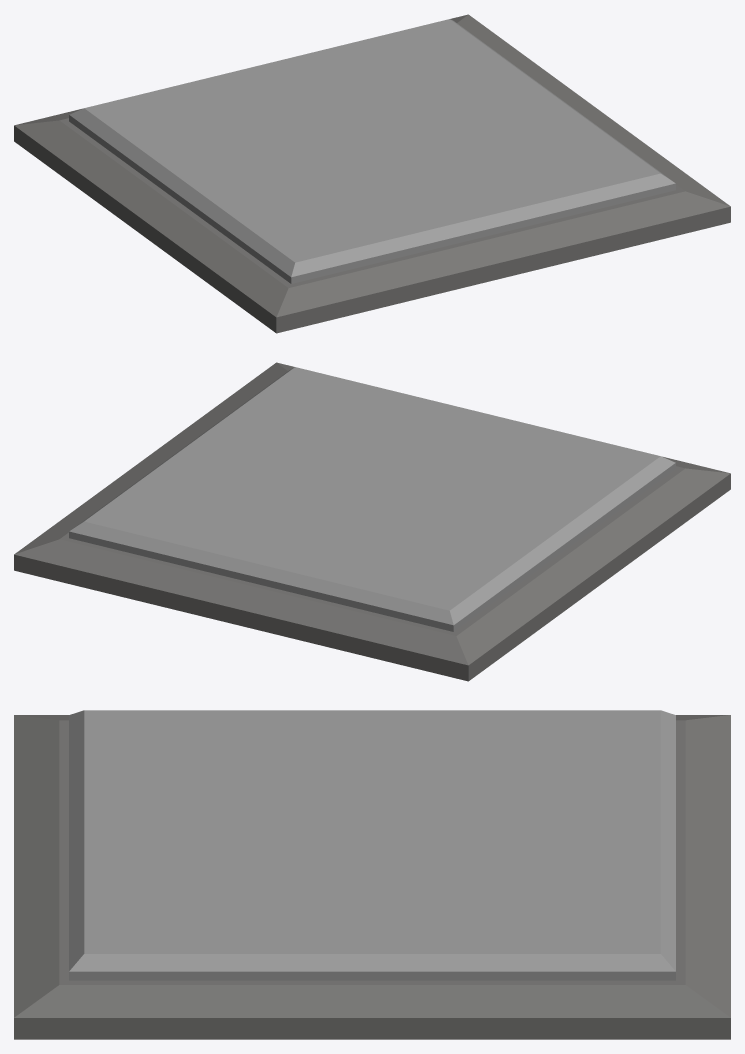
File: plate_11.fbx
The picture shows the model from 3 angles, top to bottom: view 1: azimuth 30°, elevation 25°; view 2: azimuth 150°, elevation 25°; view 3: azimuth 270°, elevation 25°; orthographic projection. The views are drawn at different scales.
Visible parts, largest first — view 1: plate_11, plate_base_11; view 2: plate_11, plate_base_11; view 3: plate_11, plate_base_11.
Boxes of the visible parts, x1,y1,x2,y2 form: plate_11: [69, 19, 675, 283]; plate_base_11: [14, 14, 730, 333]; plate_11: [69, 367, 675, 631]; plate_base_11: [14, 362, 730, 681]; plate_11: [69, 710, 675, 980]; plate_base_11: [14, 715, 730, 1039].
Size of the model in its own units: 1.3 by 0.1125 by 1.3.
